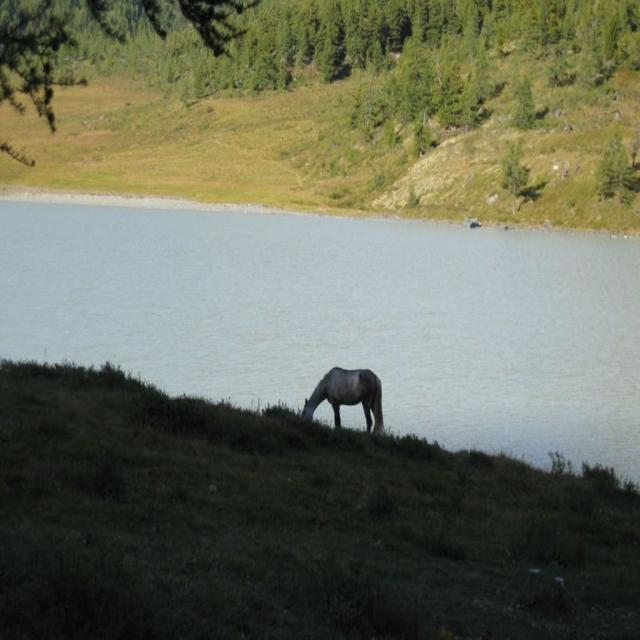Horse: (300, 367, 384, 437)
